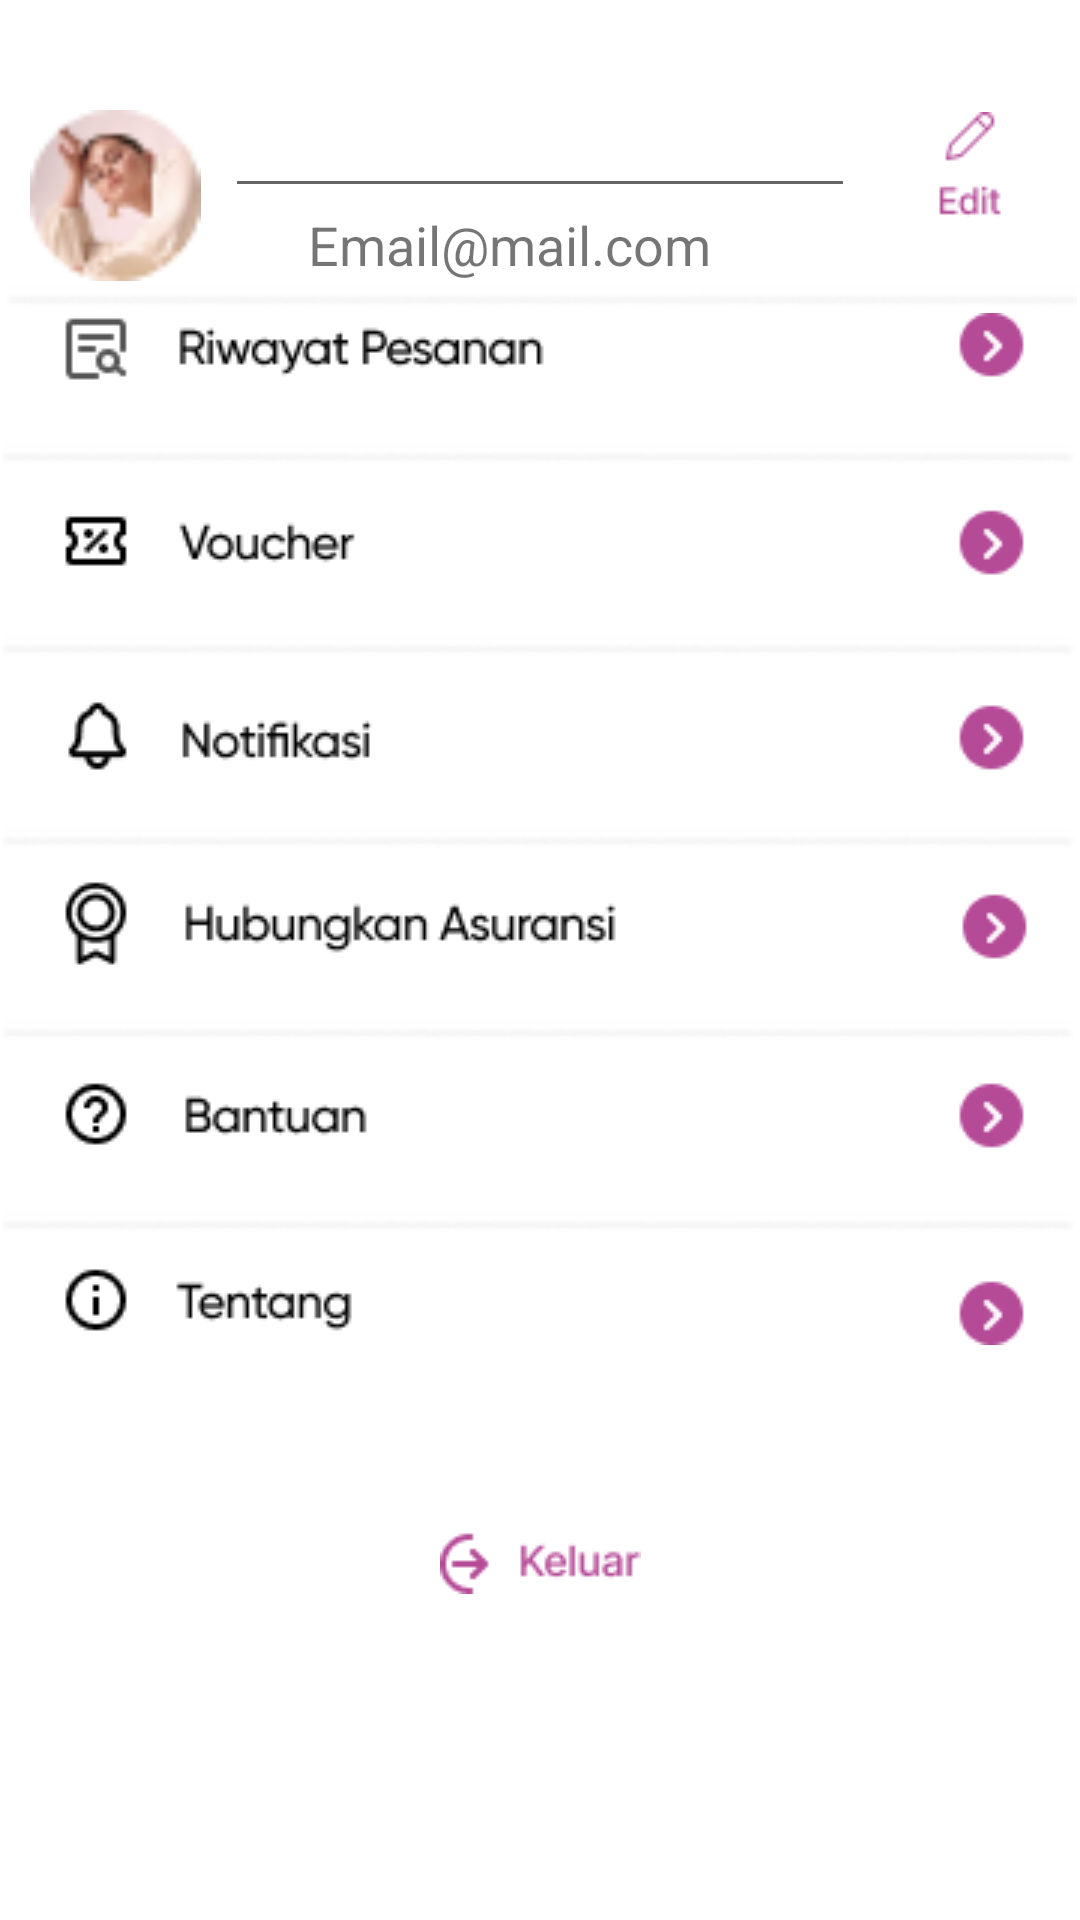

Where to tap for icons on this 1080*1920 app screen, as (x=x, y=y):
profile: (x=115, y=195)
